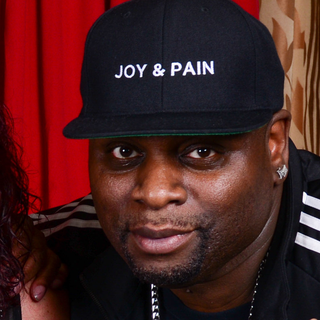eye: (177, 141, 220, 167), (103, 142, 141, 166)
